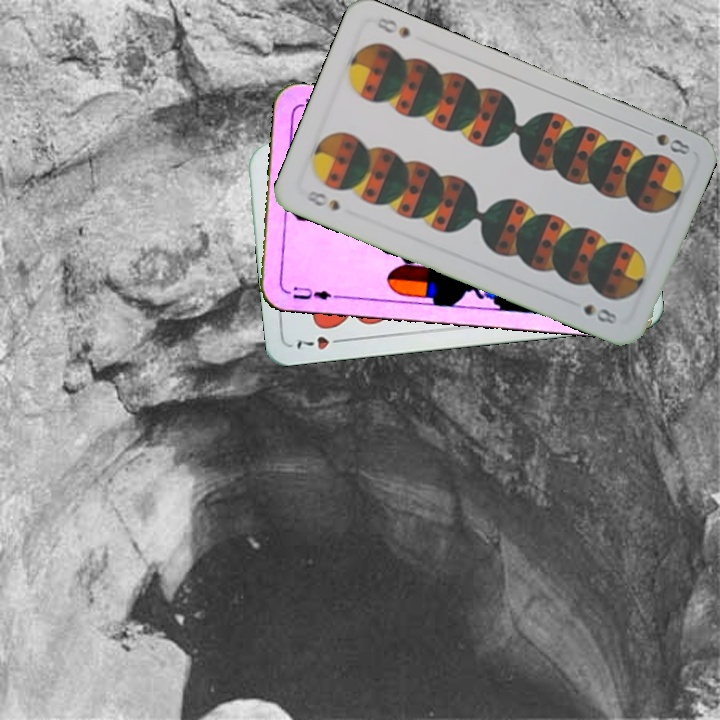EU: (283, 282, 342, 303)
H7: (292, 332, 349, 352)
S8: (637, 125, 693, 158), (301, 186, 343, 214)
